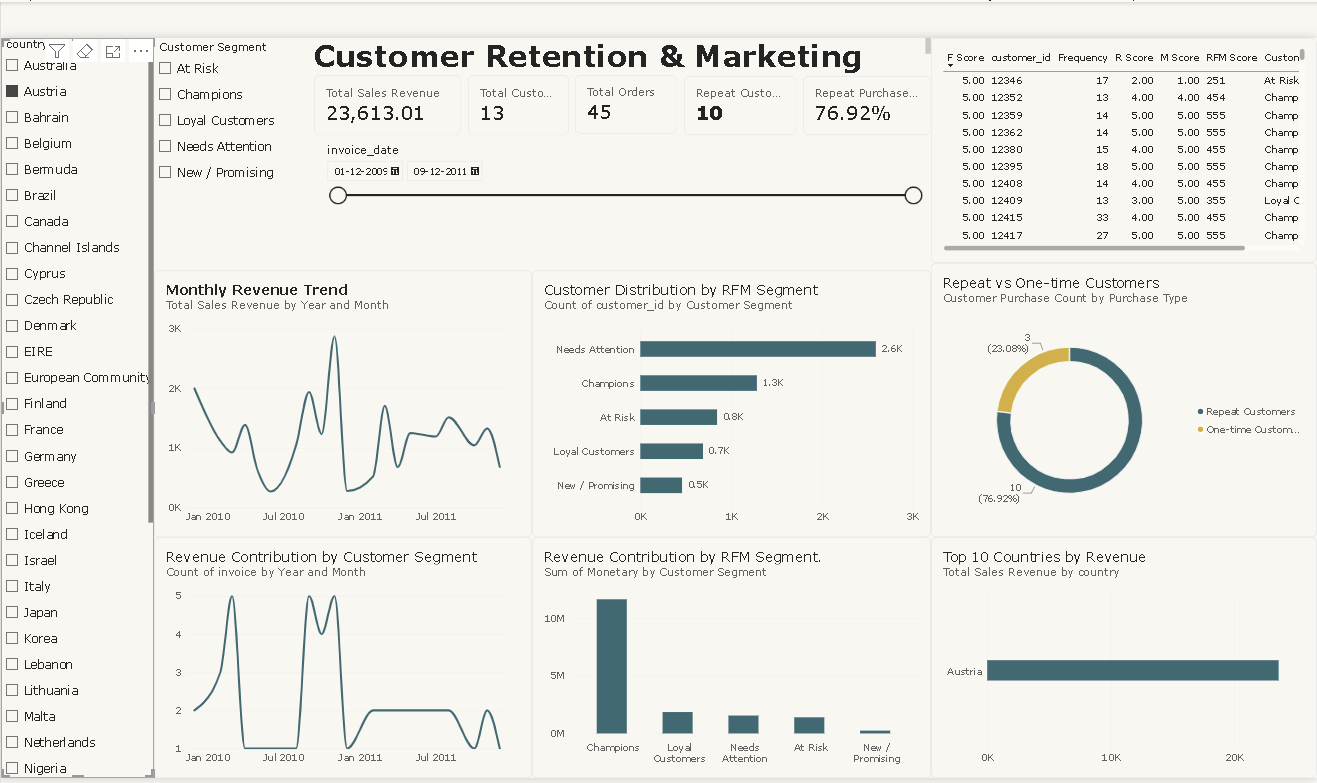

Layout of this report page (visuals, bound fields, positions):
{"tool":"powerbi","page":{"name":"Page 1","canvas":[1920,1080],"ordinal":0},"visuals":[{"type":"cardVisual","fields":{"Data":["Online_Retail_II_MySQL_Ready.Total Sales Revenue"]},"box":[456.2,54.5,214.5,89],"z":0},{"type":"cardVisual","fields":{"Data":["Online_Retail_II_MySQL_Ready.Total Customers"]},"box":[681,54.5,147.4,89],"z":1000},{"type":"cardVisual","fields":{"Data":["Online_Retail_II_MySQL_Ready.Total Orders"]},"box":[837.9,54.5,148.8,86.1],"z":2000},{"type":"cardVisual","fields":{"Data":["Online_Retail_II_MySQL_Ready.Repeat Customers"]},"box":[996.2,55.9,164.9,86.1],"z":3000},{"type":"cardVisual","fields":{"Data":["Online_Retail_II_MySQL_Ready.Repeat Purchase Rate"]},"box":[1170.4,55.9,186.2,86.5],"z":4000},{"type":"lineChart","title":"Monthly Revenue Trend","fields":{"Category":["Online_Retail_II_MySQL_Ready.invoice_date.Variation.Date Hierarchy.Year","Online_Retail_II_MySQL_Ready.invoice_date.Variation.Date Hierarchy.Month"],"Y":["Online_Retail_II_MySQL_Ready.Total Sales Revenue"]},"box":[223.2,338.5,551.5,389.5],"z":5000},{"type":"clusteredBarChart","title":"Top 10 Countries by Revenue","fields":{"Category":["Online_Retail_II_MySQL_Ready.country"],"Y":["Online_Retail_II_MySQL_Ready.Total Sales Revenue"]},"box":[1356.8,728,563.2,351.6],"z":6000},{"type":"tableEx","fields":{"Values":["RFM Analysis.F Score","RFM Analysis.customer_id","RFM Analysis.Frequency","RFM Analysis.R Score","RFM Analysis.M Score","RFM Analysis.RFM Score","RFM Analysis.Customer Segment"]},"box":[1356.8,0,563.2,328.3],"z":7000},{"type":"clusteredBarChart","title":"Customer Distribution by RFM Segment","fields":{"Category":["RFM Analysis.Customer Segment"],"Y":["CountNonNull(RFM Analysis.customer_id)"]},"box":[774.7,338.5,582.1,389.5],"z":8000},{"type":"donutChart","title":"Repeat vs One-time Customers","fields":{"Category":["Customer Purchase Type.Purchase Type"],"Y":["Online_Retail_II_MySQL_Ready.Customer Purchase Count"]},"box":[1356.8,328.3,563.2,399.8],"z":9000},{"type":"lineChart","title":"Revenue Contribution by Customer Segment","fields":{"Category":["Online_Retail_II_MySQL_Ready.invoice_date.Variation.Date Hierarchy.Year","Online_Retail_II_MySQL_Ready.invoice_date.Variation.Date Hierarchy.Month"],"Y":["Count(Online_Retail_II_MySQL_Ready.invoice)"]},"box":[223.2,728,551.5,351.6],"z":10000},{"type":"clusteredColumnChart","title":"Revenue Contribution by RFM Segment.","fields":{"Category":["RFM Analysis.Customer Segment"],"Y":["Sum(RFM Analysis.Monetary)"]},"box":[774.7,728,582.1,351.6],"z":11000},{"type":"slicer","fields":{"Values":["Online_Retail_II_MySQL_Ready.country"]},"box":[0,0,223.2,1079.6],"z":12000},{"type":"slicer","fields":{"Values":["Online_Retail_II_MySQL_Ready.invoice_date"]},"box":[468.2,154.3,879.2,174.2],"z":13000},{"type":"slicer","fields":{"Values":["RFM Analysis.Customer Segment"]},"box":[223.4,4,232.8,324.5],"z":14000},{"type":"textbox","box":[456.2,0,900.4,55.9],"z":15000}]}

Visuals, with their boxes on the page's 1920x1080 design canvas (x1, y1, x2, y2). These are canvas units, not pixel positions in the 1317x783 screenshot, which may show the page scaled, cropped or inside an application window:
cardVisual - Online_Retail_II_MySQL_Ready.Total Sales Revenue: <box>456,54,671,144</box>
cardVisual - Online_Retail_II_MySQL_Ready.Total Customers: <box>681,54,828,144</box>
cardVisual - Online_Retail_II_MySQL_Ready.Total Orders: <box>838,54,987,141</box>
cardVisual - Online_Retail_II_MySQL_Ready.Repeat Customers: <box>996,56,1161,142</box>
cardVisual - Online_Retail_II_MySQL_Ready.Repeat Purchase Rate: <box>1170,56,1357,142</box>
"Monthly Revenue Trend" lineChart: <box>223,338,775,728</box>
"Top 10 Countries by Revenue" clusteredBarChart: <box>1357,728,1920,1080</box>
tableEx - RFM Analysis.F Score x RFM Analysis.customer_id: <box>1357,0,1920,328</box>
"Customer Distribution by RFM Segment" clusteredBarChart: <box>775,338,1357,728</box>
"Repeat vs One-time Customers" donutChart: <box>1357,328,1920,728</box>
"Revenue Contribution by Customer Segment" lineChart: <box>223,728,775,1080</box>
"Revenue Contribution by RFM Segment." clusteredColumnChart: <box>775,728,1357,1080</box>
slicer - Online_Retail_II_MySQL_Ready.country: <box>0,0,223,1080</box>
slicer - Online_Retail_II_MySQL_Ready.invoice_date: <box>468,154,1347,328</box>
slicer - RFM Analysis.Customer Segment: <box>223,4,456,328</box>
textbox: <box>456,0,1357,56</box>
